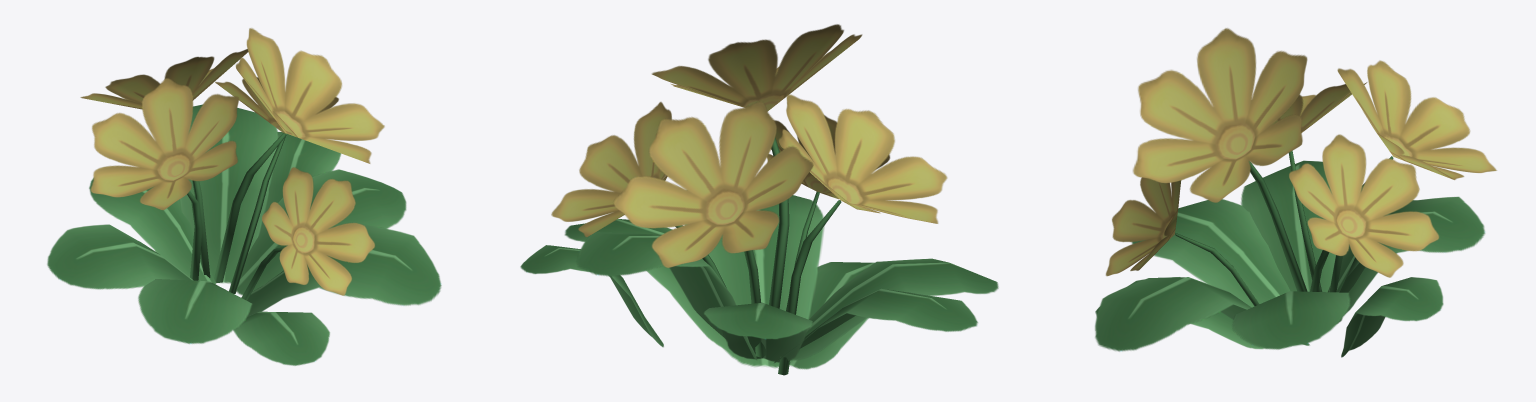
File: plant-flowers.glb
The picture shows the model from 3 angles, left to right: view 1: azimuth 30°, elevation 25°; view 2: azimuth 150°, elevation 25°; view 3: azimuth 270°, elevation 25°; orthographic projection. The views are drawn at different scales.
Parts seen in each view (by area): view 1: Plant_Flowers; view 2: Plant_Flowers; view 3: Plant_Flowers.
Part boxes in pixels (x1=…): Plant_Flowers: x1=47, y1=28, x2=441, y2=365; Plant_Flowers: x1=520, y1=24, x2=998, y2=375; Plant_Flowers: x1=1095, y1=28, x2=1496, y2=357.
Bounding box in the file's own units: 1.48 × 1.18 × 1.53.
1 material, 1 textured.
